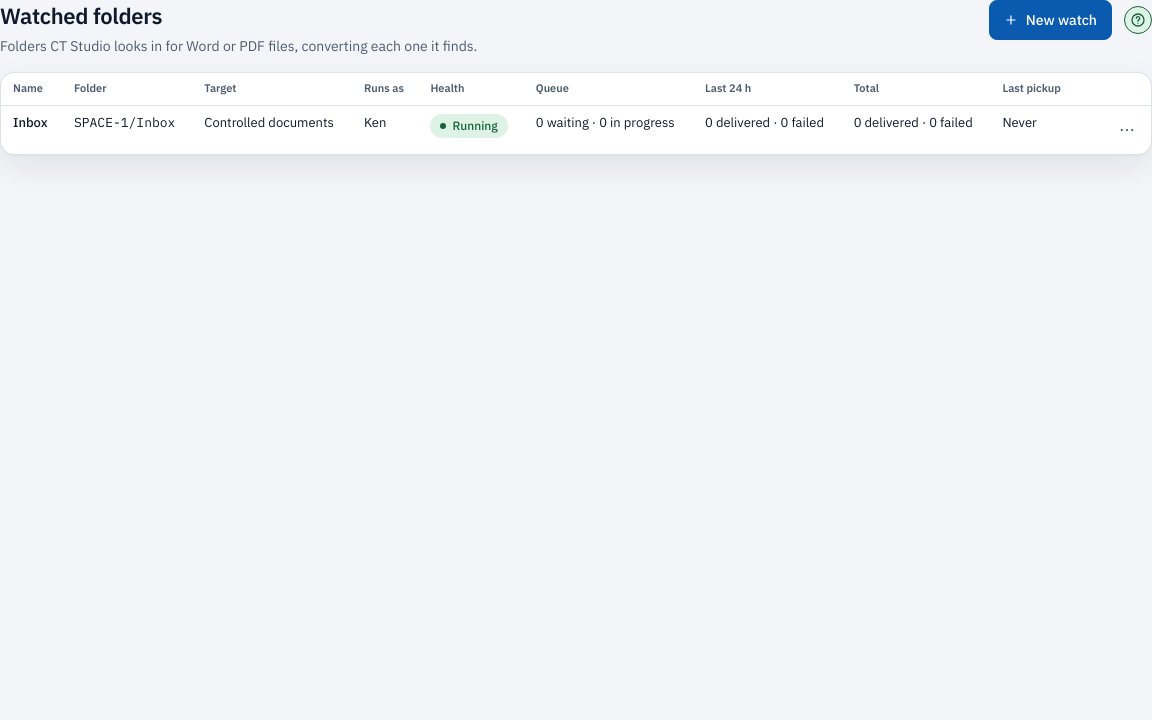
Test case: the Watched folders page › stops a watch by draining it
Click the button named "Actions for Inbox" at (1127, 130), box x1=1107 y1=110 x2=1147 y2=150
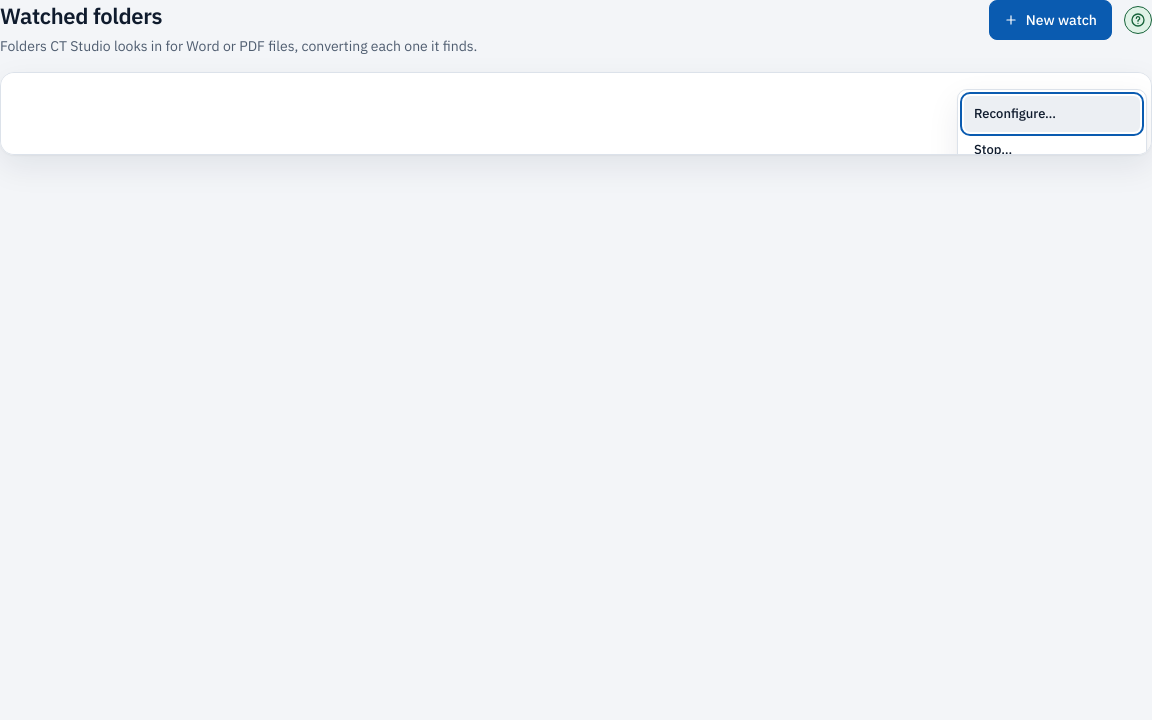
Click the menu item "Stop…" at (1052, 150), box x1=964 y1=132 x2=1140 y2=168
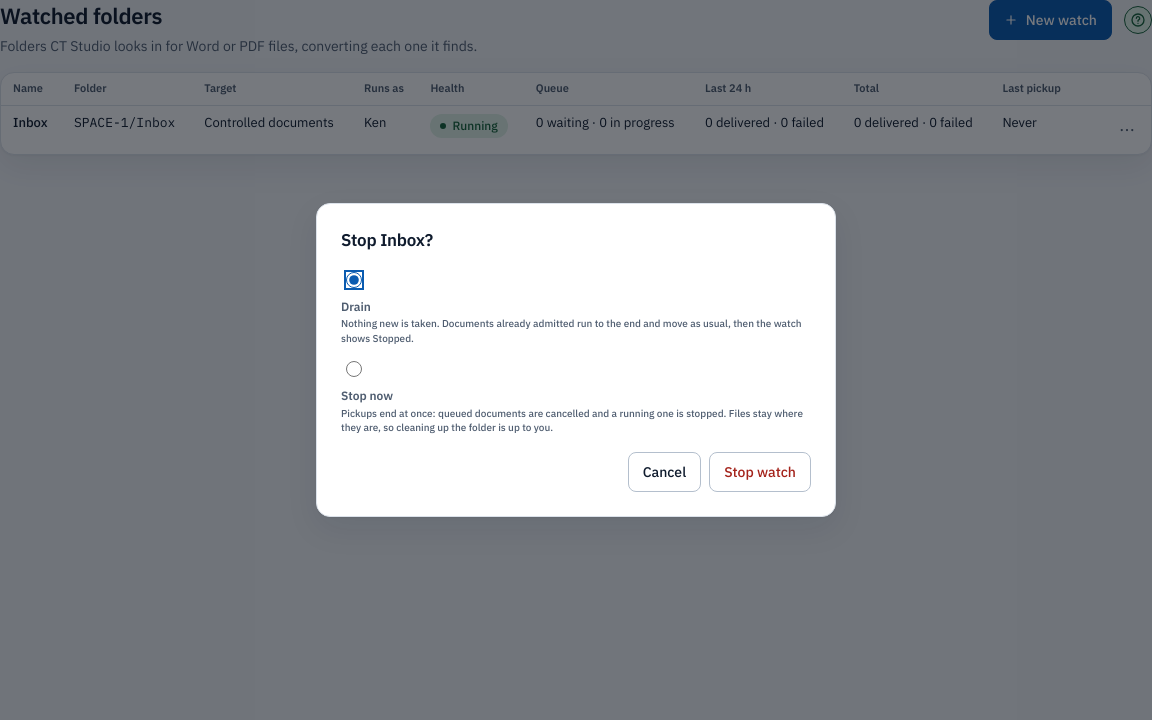
Now the radio button labelled "Drain" is checked, box x1=346 y1=272 x2=362 y2=288
Click the button "Stop watch" at (760, 472), box x1=709 y1=452 x2=811 y2=492
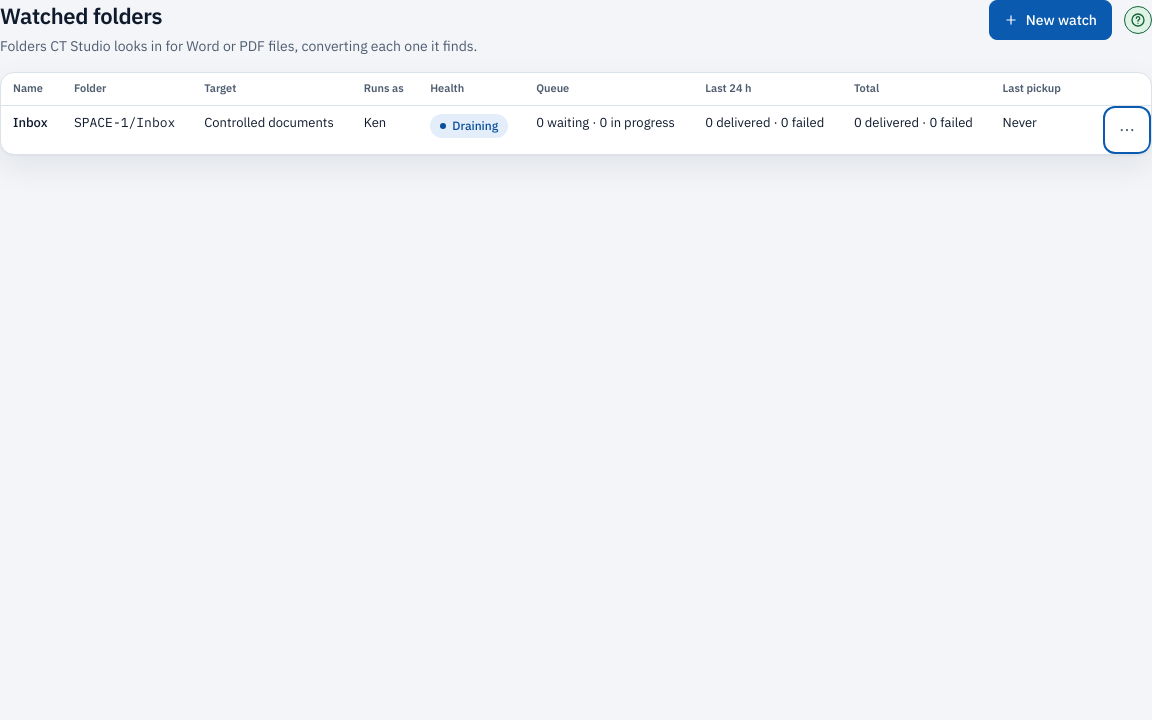
Now the dialog is gone
